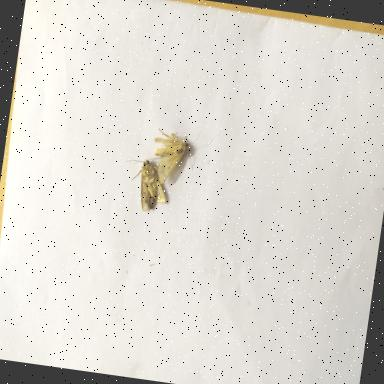abw: (146, 120, 201, 186), (118, 152, 172, 213)
